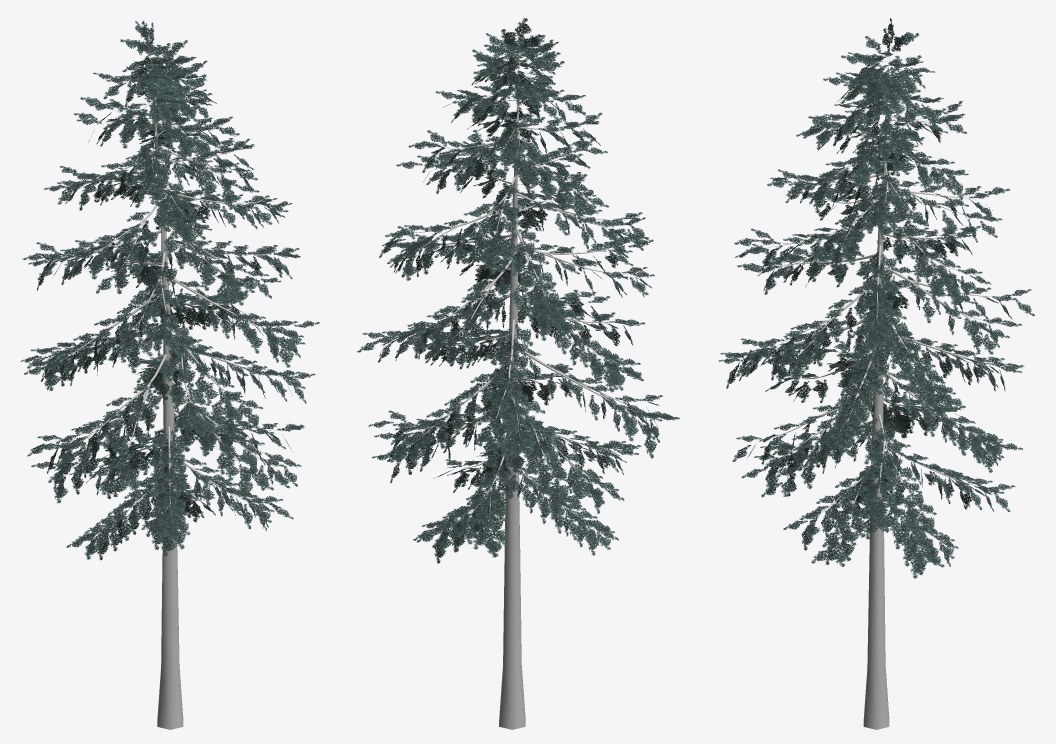
Rendered from Tree 1.fbx.
The picture shows the model from 3 angles, left to right: view 1: azimuth 30°, elevation 25°; view 2: azimuth 150°, elevation 25°; view 3: azimuth 270°, elevation 25°; orthographic projection. The views are drawn at different scales.
Visible parts, largest first — view 1: leaves.002, tree.002; view 2: leaves.002, tree.002; view 3: leaves.002, tree.002.
Part boxes in pixels (box(x1,y1,x2,y2)): leaves.002: box(20, 21, 319, 560); tree.002: box(53, 52, 286, 729); leaves.002: box(357, 18, 679, 563); tree.002: box(398, 49, 646, 729); leaves.002: box(718, 18, 1034, 578); tree.002: box(745, 50, 1005, 729).
Bounding box in the file's own units: 4811 × 2044 × 2045.
